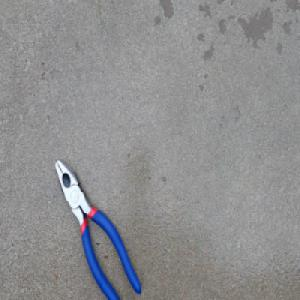Pliers: (53, 156, 142, 300)
